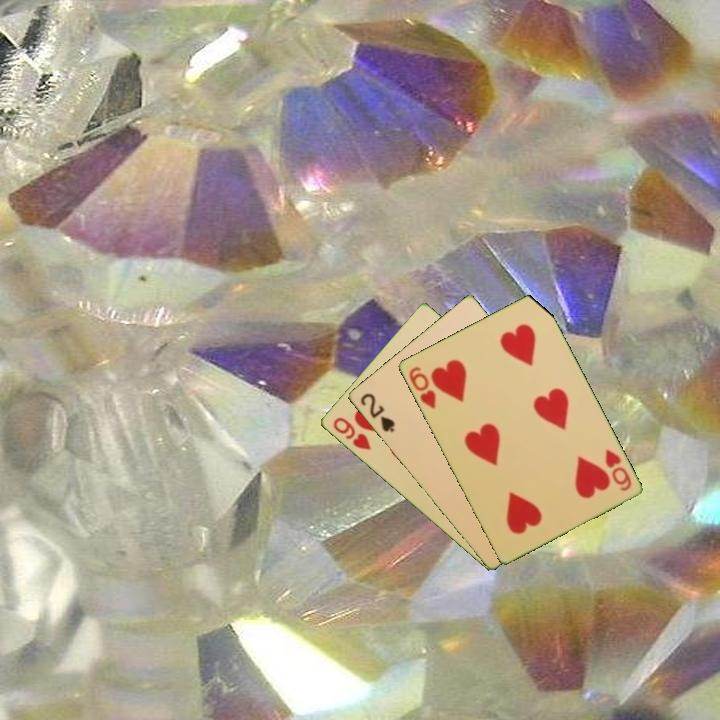2s: (356, 389, 397, 435)
6h: (405, 363, 439, 412), (601, 445, 634, 494)
9h: (329, 413, 373, 453)
